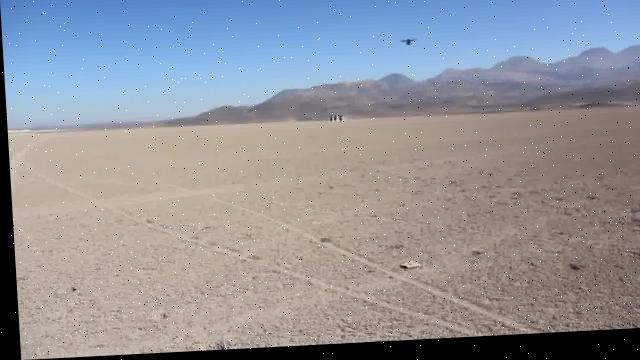drone: (396, 39, 418, 52)
